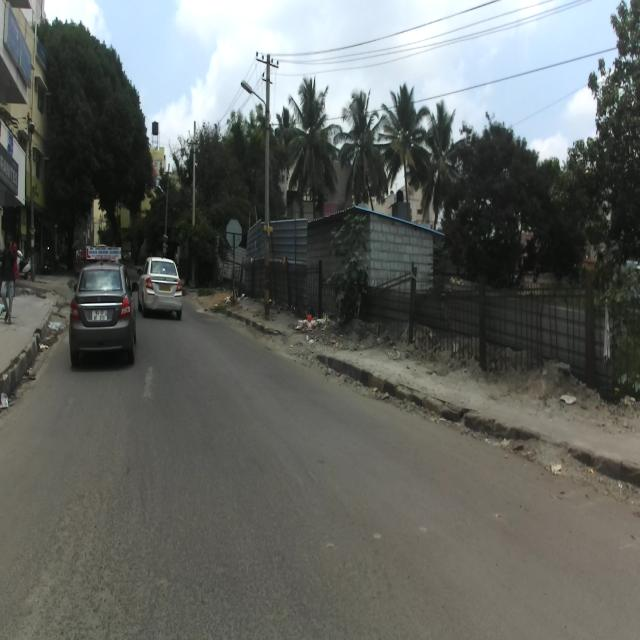car ahead at: (72, 256, 138, 366), (136, 254, 186, 318)
electric pole ahead at: (255, 50, 282, 324)
